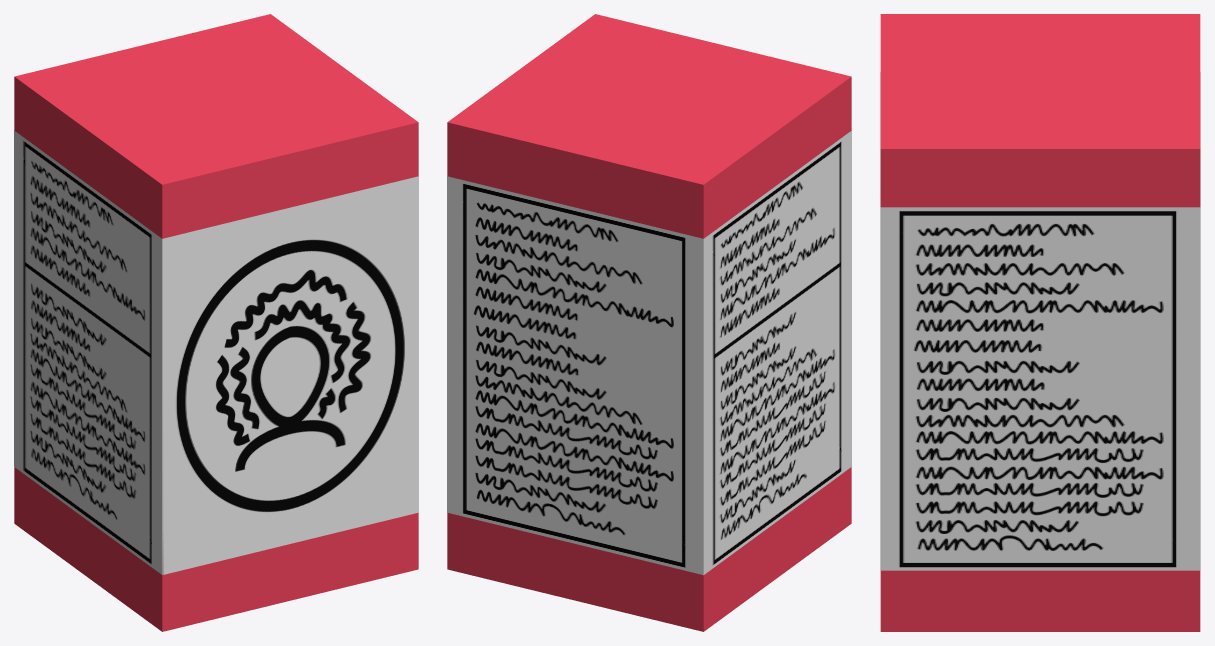
Rendered from headacheOTC.fbx.
The picture shows the model from 3 angles, left to right: view 1: azimuth 30°, elevation 25°; view 2: azimuth 150°, elevation 25°; view 3: azimuth 270°, elevation 25°; orthographic projection. The views are drawn at different scales.
Visible parts, largest first — view 1: headacheLabel, painReliefBox; view 2: headacheLabel, painReliefBox; view 3: headacheLabel, painReliefBox.
Part boxes in pixels (x1,y1,x2,y2): headacheLabel: (14,130,418,574); painReliefBox: (14,14,418,631); headacheLabel: (447,130,851,575); painReliefBox: (447,14,851,631); headacheLabel: (880,72,1200,570); painReliefBox: (880,14,1200,631).
Size of the model in its own units: 12.01 by 20 by 12.01.
